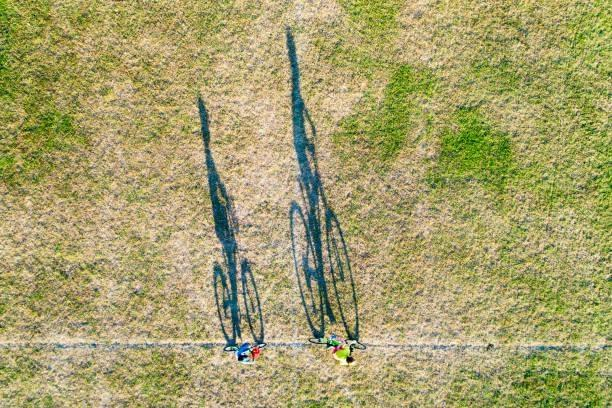Motorcycle: (315, 336, 365, 358), (225, 339, 264, 364)
